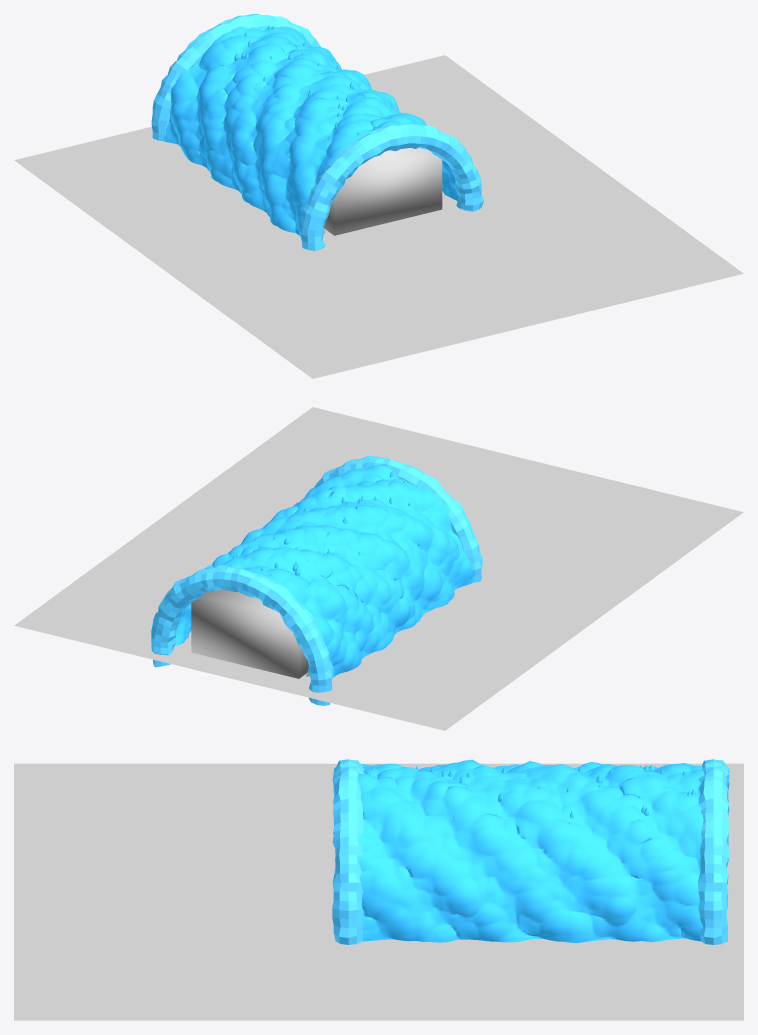
The model's file is Ice_Tunnel_Segment.fbx.
3 views of the same model, one above another, from view 1: azimuth 30°, elevation 25°; view 2: azimuth 150°, elevation 25°; view 3: azimuth 270°, elevation 25° (orthographic). The views are drawn at different scales.
Parts seen in each view (by area): view 1: Ice_Tunnel_Water, Ice_Tunnel_Shell, Ice_Tunnel_Mist_Volume, Ice_Tunnel_Entrance_Arch, Ice_Tunnel_Exit_Arch; view 2: Ice_Tunnel_Water, Ice_Tunnel_Shell, Ice_Tunnel_Mist_Volume, Ice_Tunnel_Exit_Arch, Ice_Tunnel_Entrance_Arch; view 3: Ice_Tunnel_Water, Ice_Tunnel_Shell, Ice_Tunnel_Entrance_Arch, Ice_Tunnel_Exit_Arch.
Part boxes in pixels (x1,y1,x2,y2): Ice_Tunnel_Water: (14, 55, 743, 378); Ice_Tunnel_Shell: (164, 26, 458, 240); Ice_Tunnel_Mist_Volume: (324, 147, 442, 235); Ice_Tunnel_Entrance_Arch: (301, 123, 483, 250); Ice_Tunnel_Exit_Arch: (151, 14, 320, 141); Ice_Tunnel_Water: (14, 407, 743, 730); Ice_Tunnel_Shell: (175, 465, 473, 677); Ice_Tunnel_Mist_Volume: (191, 589, 308, 678); Ice_Tunnel_Exit_Arch: (151, 565, 333, 705); Ice_Tunnel_Entrance_Arch: (314, 455, 482, 582); Ice_Tunnel_Water: (14, 763, 743, 1020); Ice_Tunnel_Shell: (358, 759, 704, 942); Ice_Tunnel_Entrance_Arch: (332, 759, 364, 944); Ice_Tunnel_Exit_Arch: (698, 759, 729, 944).
Bounding box in the file's own units: 40 × 10.34 × 48.
